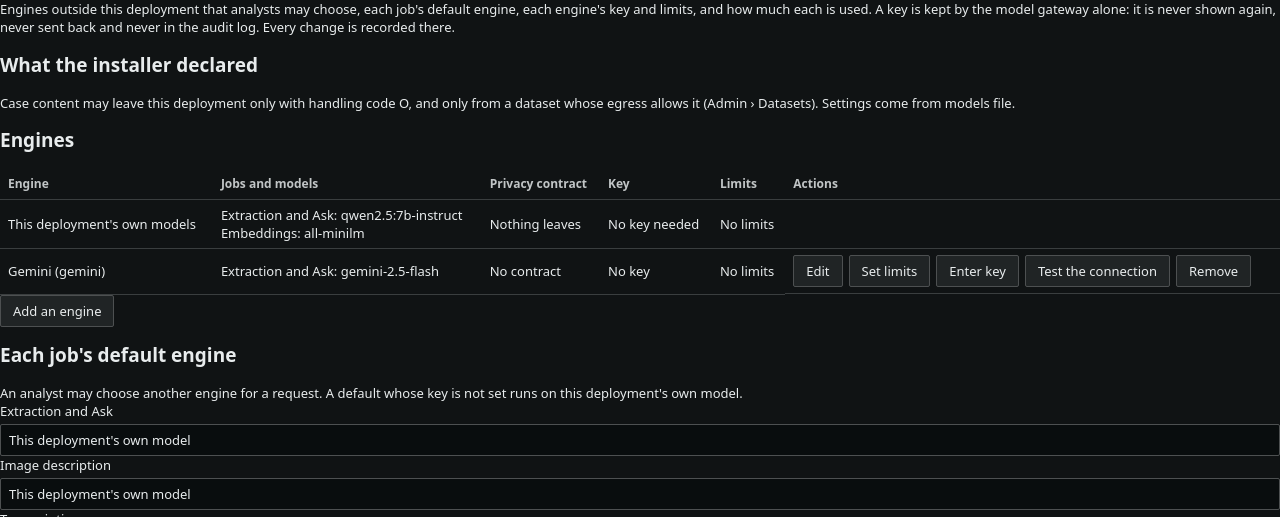
Test: Models › sends the key once, clears the field, and never shows it again
Click the button with aria-label "Enter key for Gemini".
click(978, 271)  # box [936,255,1019,287]
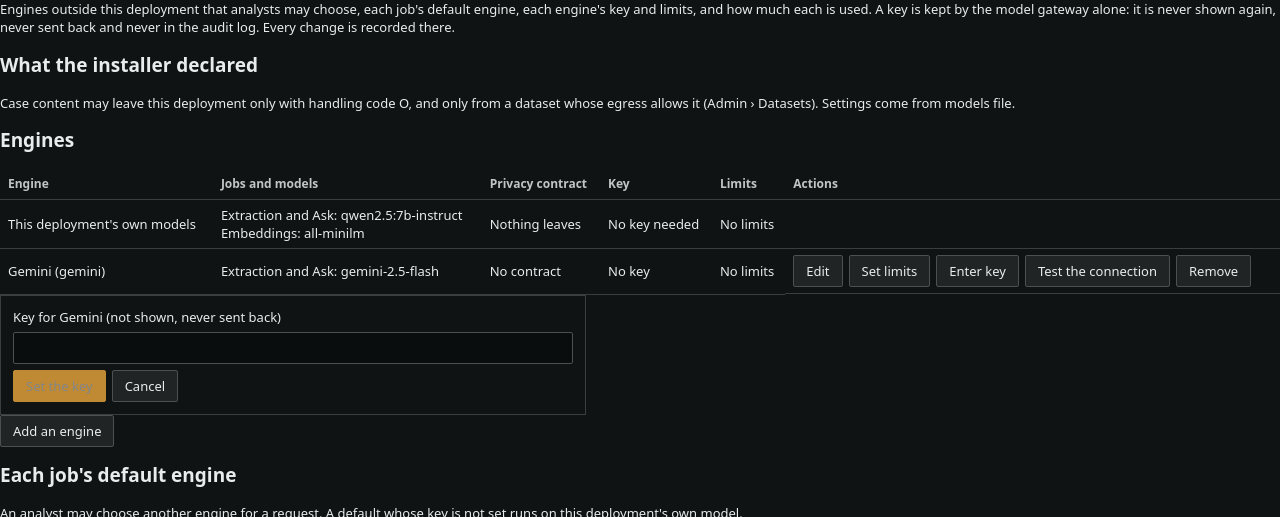
Check: the password field labelled "Key for Gemini (not shown, never sent back)" is empty
Type "sk-PLANTED-glass-key-Q7Z4" into the password field labelled "Key for Gemini (not shown, never sent back)".
click(293, 348); type("sk-PLANTED-glass-key-Q7Z4")  # box [13,332,573,364]
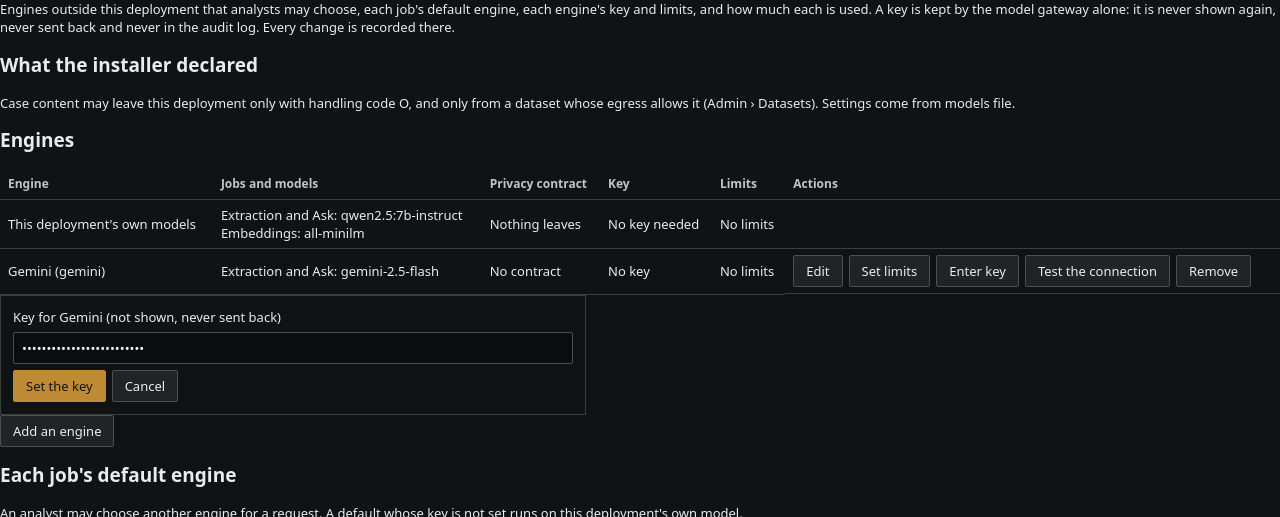
Click the button "Set the key".
click(59, 386)  # box [13,370,106,402]
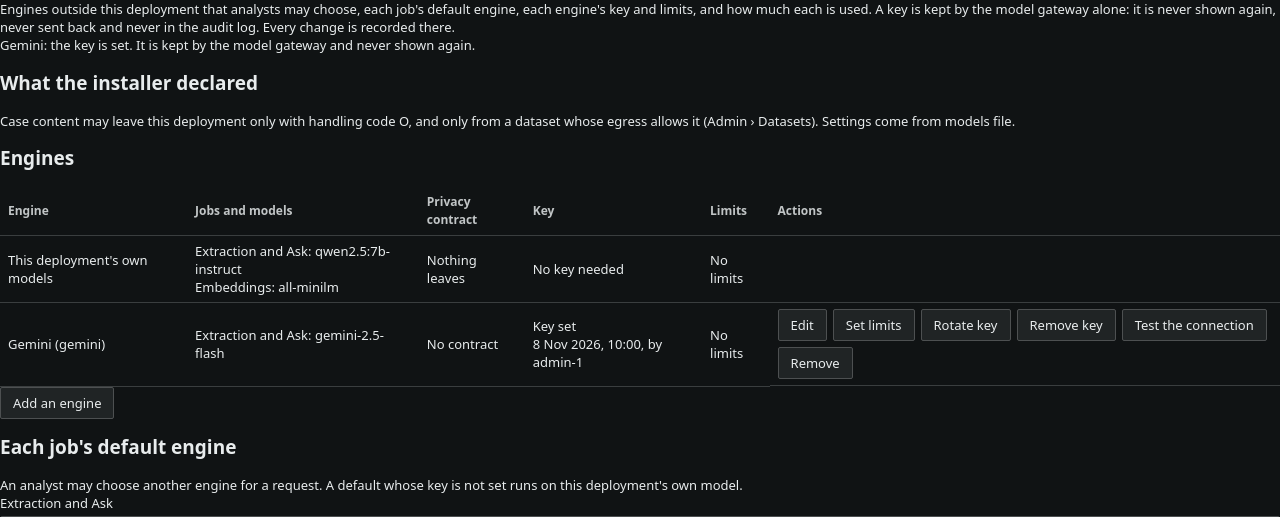
Check: the text "Gemini: the key is set. It is kept by the model gateway and never shown again." is shown, box [0,36,475,54]
Check: the text "Key set" is shown, box [533,317,576,335]
